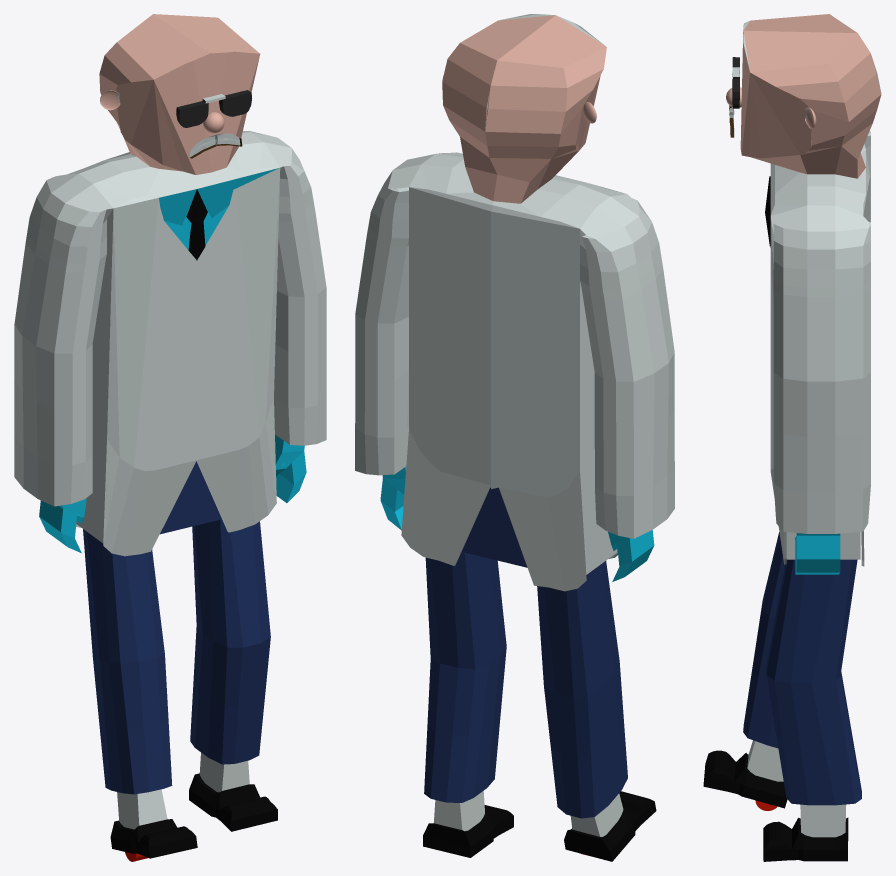
Rendered from character.fbx.
3 views of the same model, side by side, from view 1: azimuth 30°, elevation 25°; view 2: azimuth 150°, elevation 25°; view 3: azimuth 270°, elevation 25° (orthographic). The views are drawn at different scales.
Visible parts, largest first — view 1: Cube; view 2: Cube; view 3: Cube.
Boxes of the visible parts, x1,y1,x2,y2 form: Cube: [14, 14, 326, 858]; Cube: [355, 14, 674, 861]; Cube: [703, 14, 881, 861].
Bounding box in the file's own units: 306 × 821 × 166.
